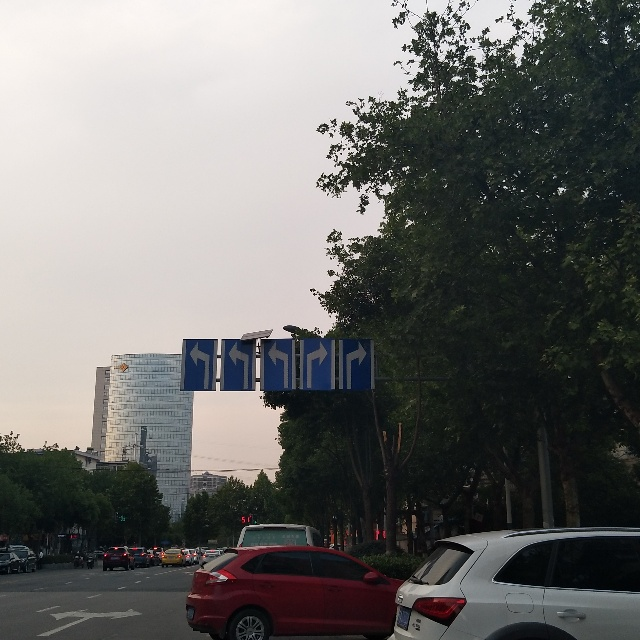left: (219, 344, 256, 391), (184, 337, 214, 389), (267, 340, 294, 389)
right: (308, 339, 334, 392), (342, 339, 369, 387)
